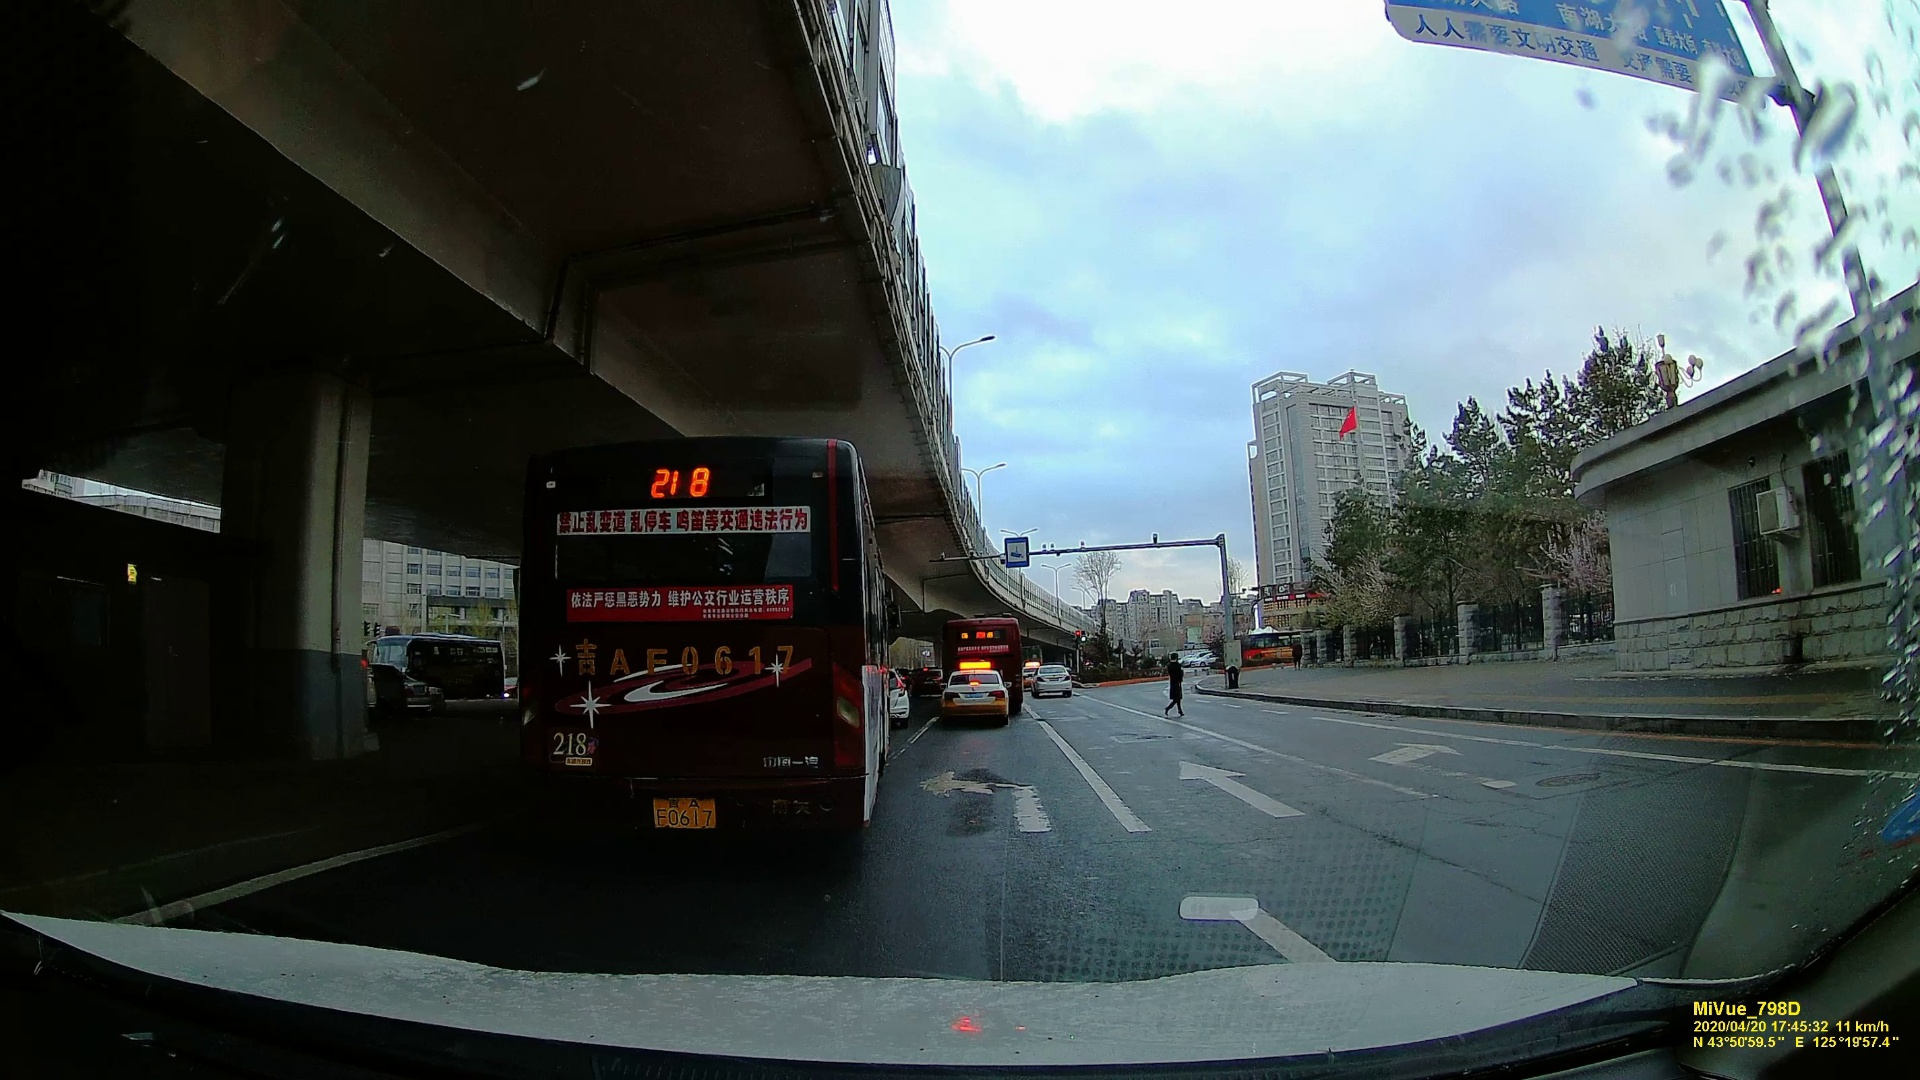bus: (504, 432, 868, 842), (932, 619, 1021, 720)
person: (1164, 644, 1186, 708), (1289, 640, 1305, 670)
traffic_sign: (1006, 540, 1026, 570)
vehicle: (942, 662, 1008, 722), (1032, 665, 1075, 696)
